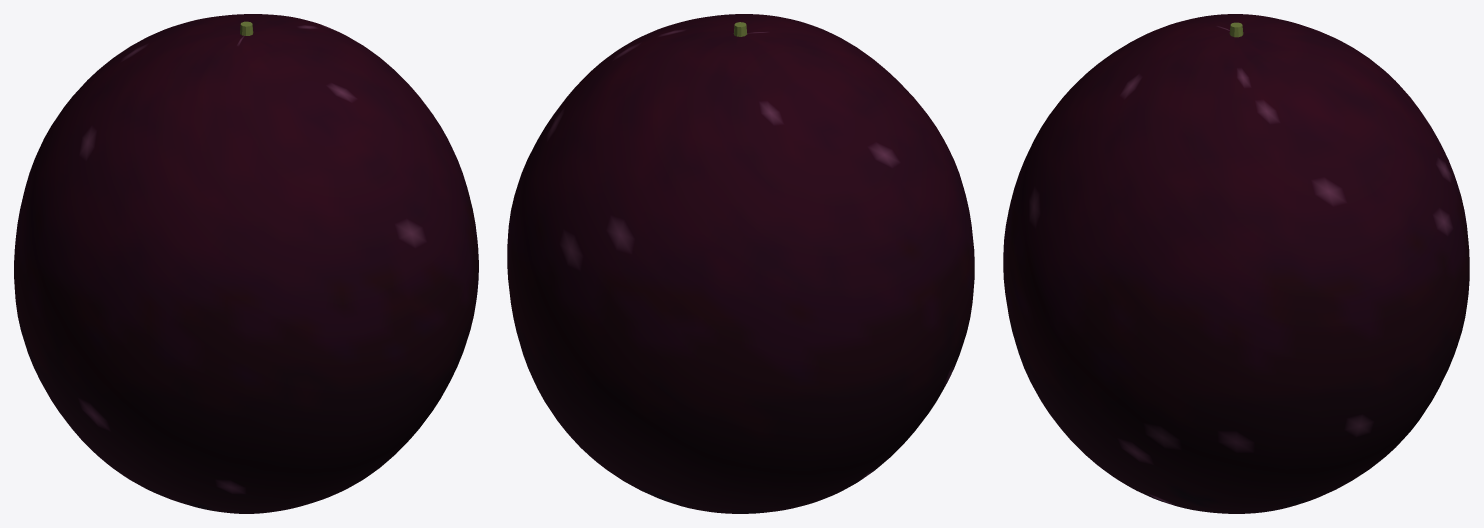
Rendered from fruit-de-la-passion.glb.
3 views of the same model, side by side, from view 1: azimuth 30°, elevation 25°; view 2: azimuth 150°, elevation 25°; view 3: azimuth 270°, elevation 25° (orthographic).
Visible parts, largest first — view 1: entier_peau, moitie_B_peau, moitie_A_peau; view 2: entier_peau, moitie_A_peau, moitie_B_peau; view 3: entier_peau, moitie_A_peau, moitie_B_peau.
Part boxes in pixels (x1,y1,x2,y2): entier_peau: [14, 14, 478, 513]; moitie_B_peau: [45, 28, 478, 513]; moitie_A_peau: [14, 14, 360, 458]; entier_peau: [507, 14, 974, 513]; moitie_A_peau: [507, 30, 942, 513]; moitie_B_peau: [634, 14, 974, 459]; entier_peau: [1003, 14, 1469, 513]; moitie_A_peau: [1236, 16, 1469, 513]; moitie_B_peau: [1004, 15, 1236, 513].
Bounding box in the file's own units: 1.84 × 2.04 × 1.84.
